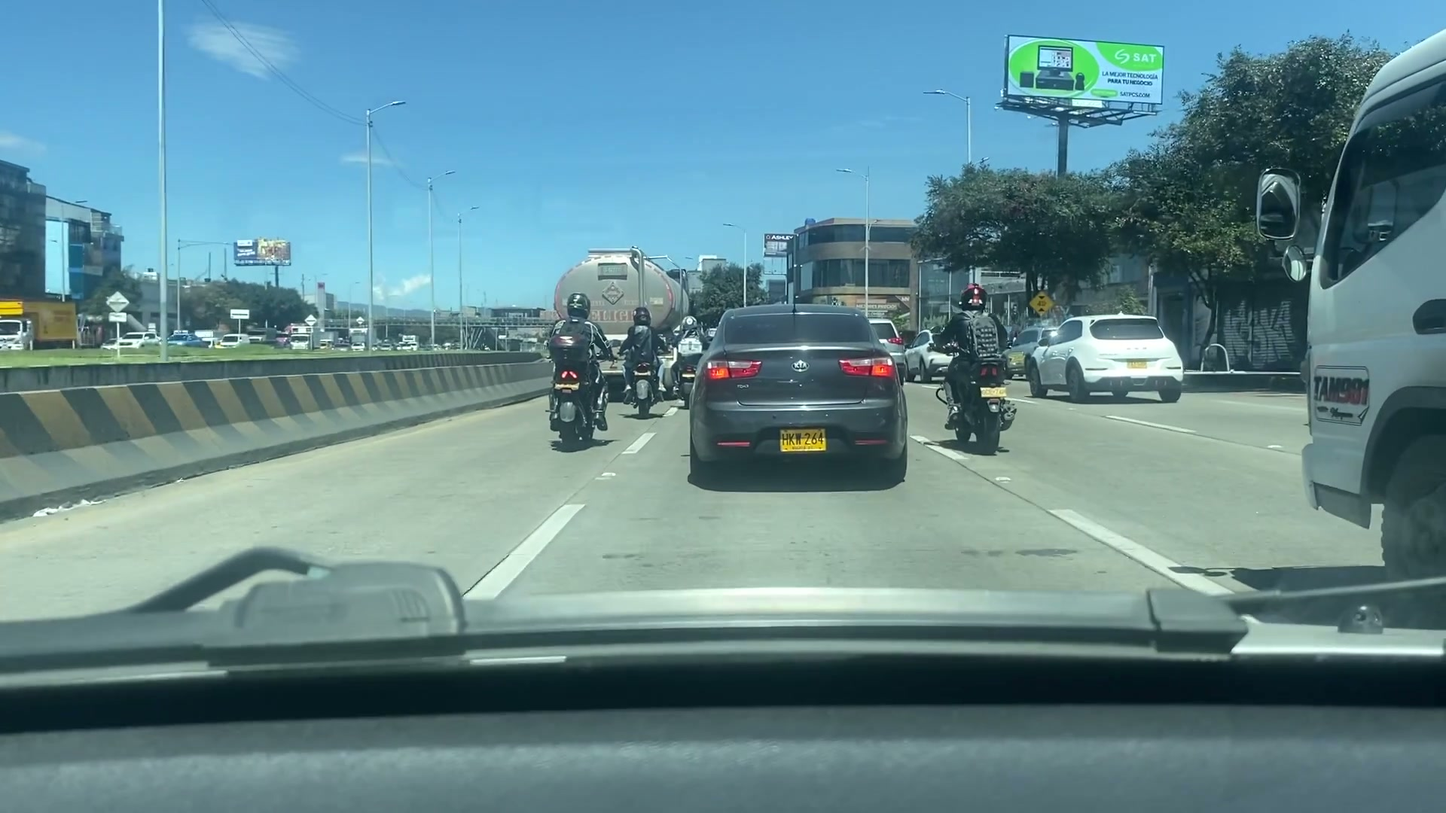car: (692, 304, 909, 486), (1031, 310, 1183, 405), (862, 315, 910, 387), (904, 327, 962, 383), (1006, 328, 1072, 369)
motorcycle: (933, 355, 1022, 460), (544, 370, 610, 447), (623, 360, 665, 414), (672, 360, 699, 411)
person: (931, 277, 1017, 434), (550, 294, 612, 445), (624, 308, 668, 405), (674, 315, 709, 393)
truck: (1260, 4, 1446, 621), (545, 243, 692, 396)
